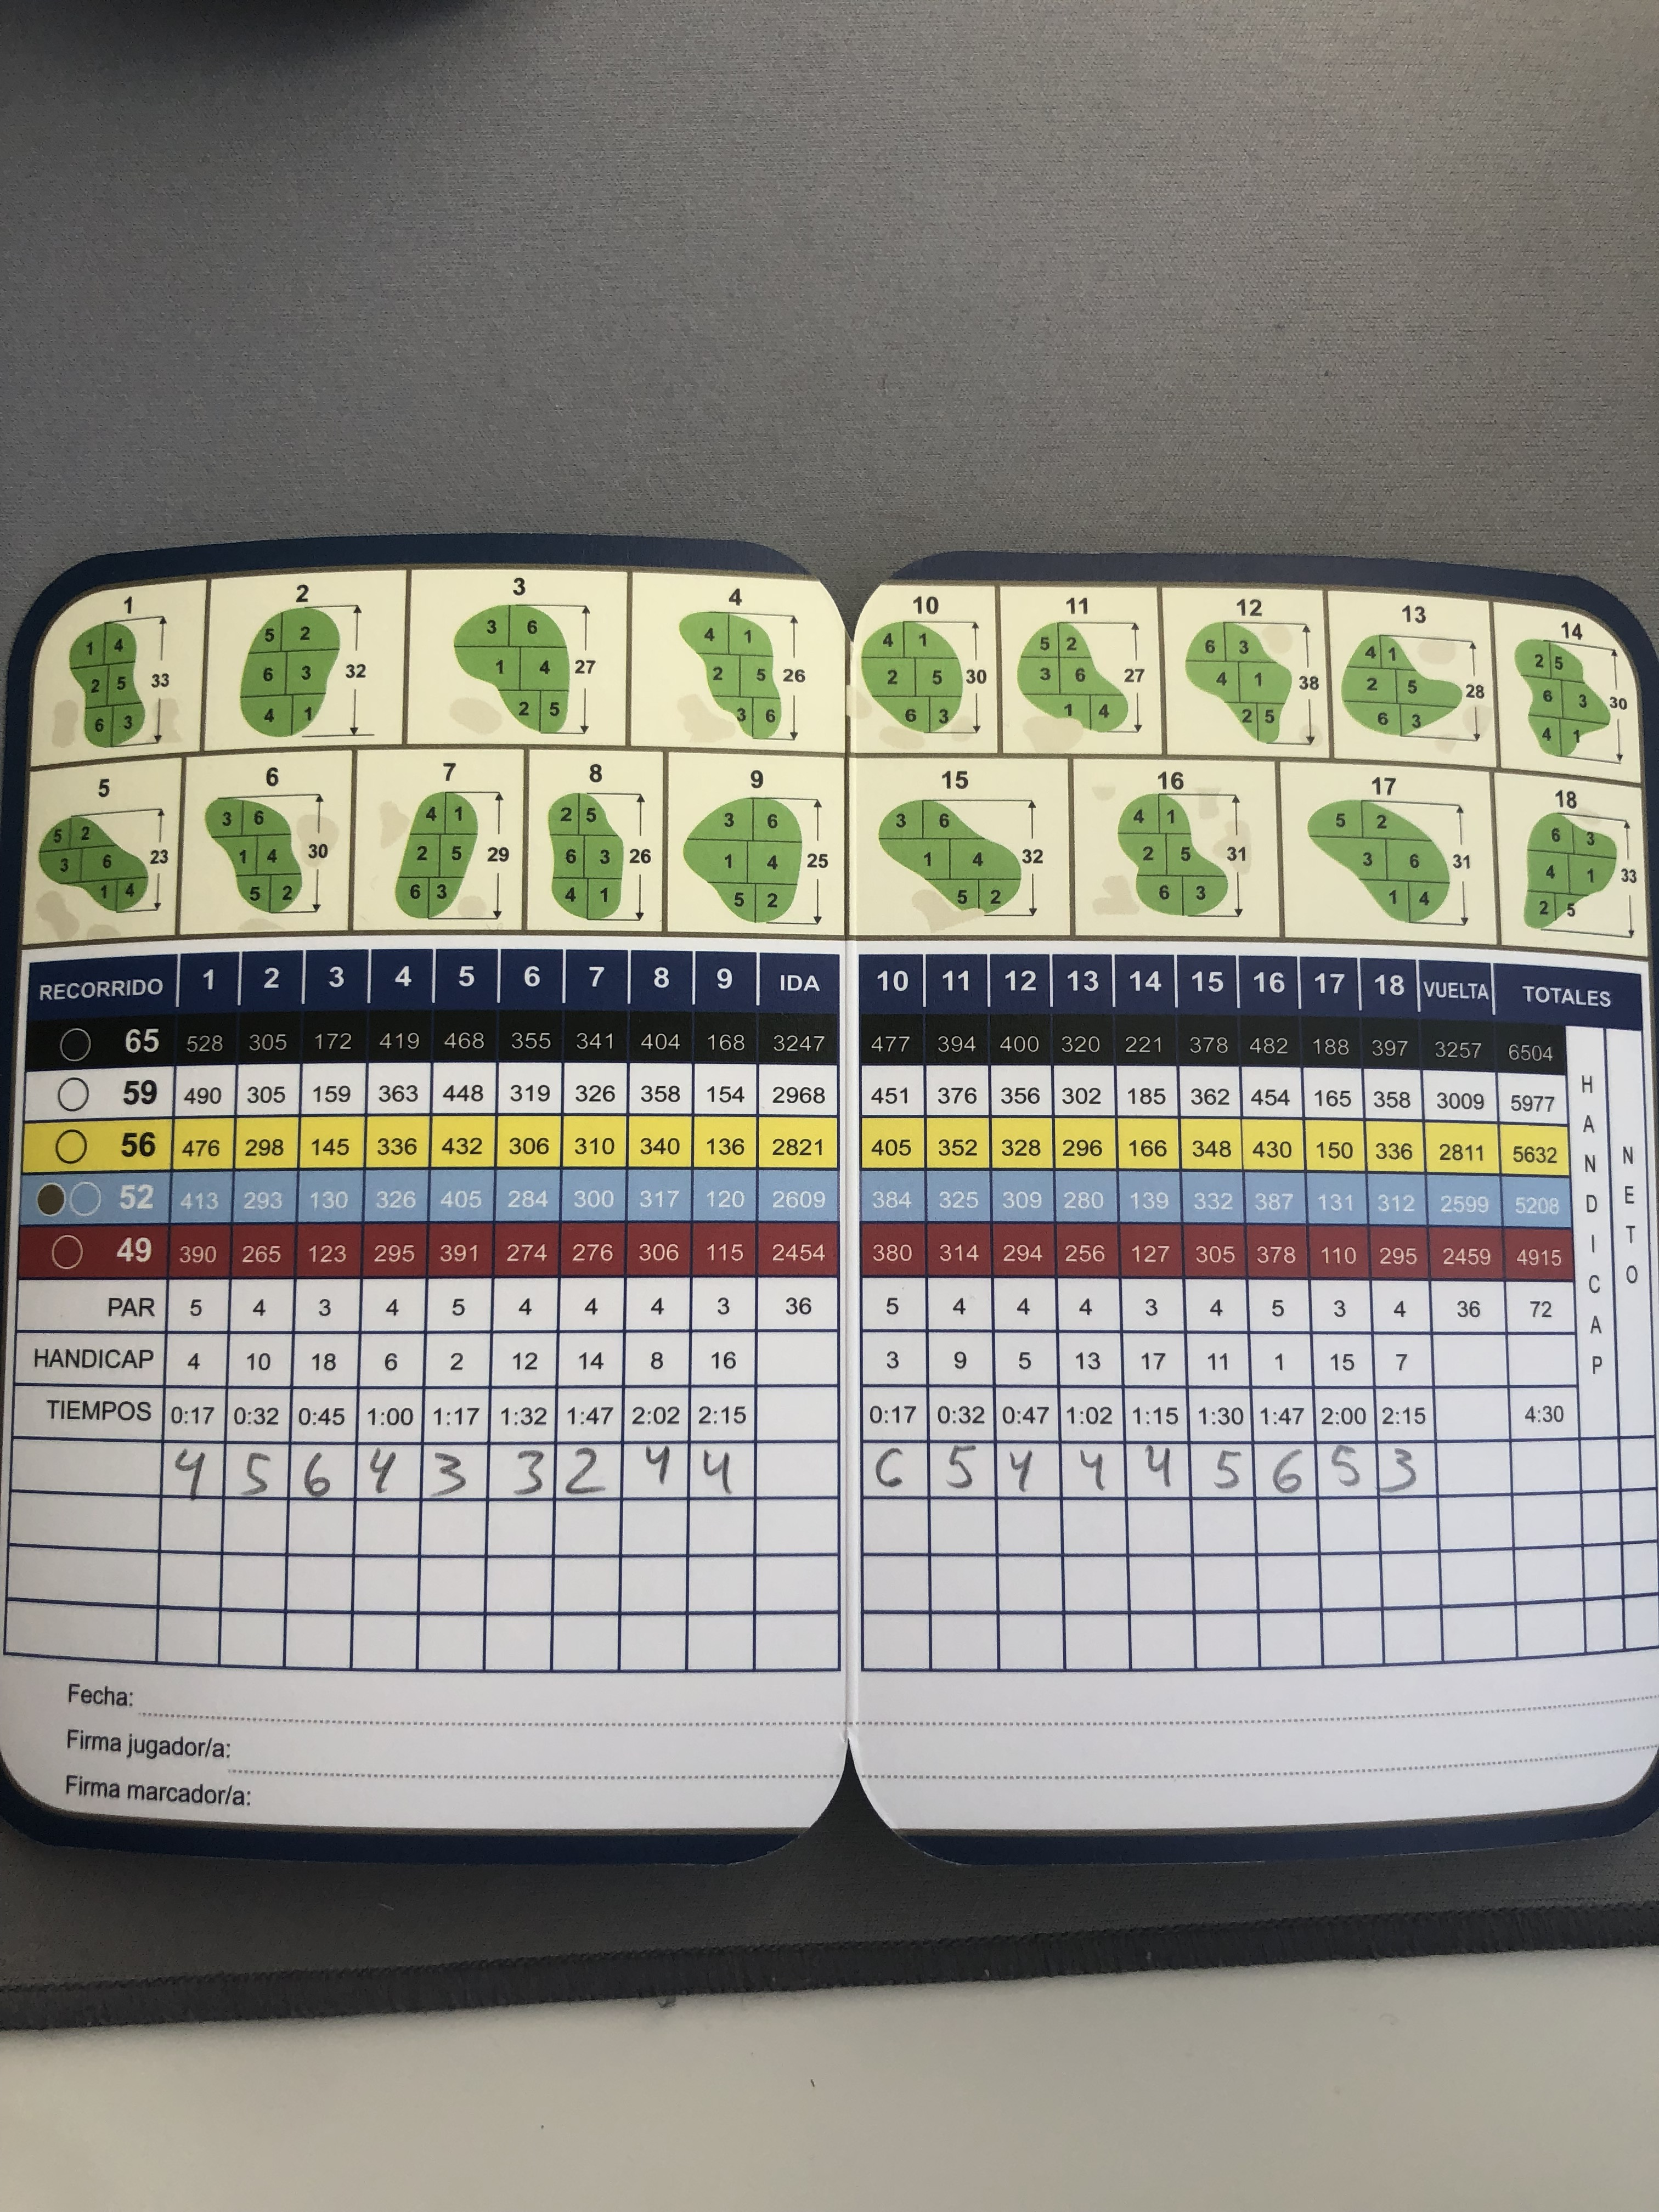par: (73, 1282, 1568, 1334)
score: (153, 1437, 1439, 1507)
